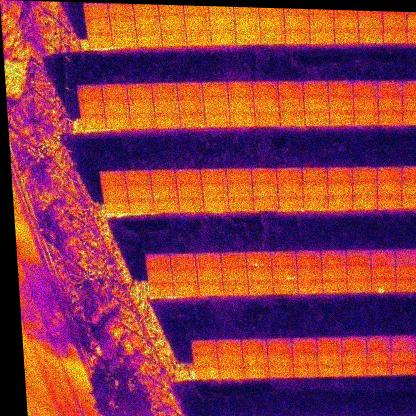Diode: (272, 266, 298, 281)
Hotspot: (180, 112, 206, 129), (304, 96, 330, 112), (229, 97, 255, 113), (279, 112, 305, 128), (298, 279, 324, 295), (252, 183, 279, 198), (129, 198, 156, 213), (84, 2, 109, 18), (152, 185, 178, 200), (246, 252, 272, 267), (359, 28, 384, 43), (371, 278, 396, 293), (279, 197, 305, 211), (243, 353, 268, 366)
Normal: (333, 10, 359, 29), (277, 81, 304, 99), (304, 110, 330, 128), (334, 27, 360, 45), (202, 81, 229, 98), (203, 97, 230, 114), (103, 99, 130, 116), (378, 109, 405, 126), (229, 111, 256, 128), (326, 194, 353, 211), (315, 336, 342, 353), (381, 11, 408, 28), (370, 249, 395, 267), (126, 84, 154, 100), (252, 81, 278, 98), (177, 82, 203, 99), (329, 110, 355, 127), (259, 13, 285, 30), (210, 14, 236, 31), (383, 27, 409, 44), (345, 249, 371, 266), (295, 250, 321, 267), (235, 29, 261, 46), (186, 29, 212, 46), (161, 30, 187, 47), (390, 334, 416, 351), (365, 335, 391, 352), (136, 30, 162, 47), (227, 82, 254, 98), (128, 99, 155, 115), (308, 13, 335, 29), (200, 168, 227, 184), (109, 17, 136, 33), (78, 85, 103, 102), (285, 28, 310, 45), (358, 11, 384, 27), (254, 97, 280, 113), (154, 98, 180, 114), (353, 111, 379, 127), (205, 112, 231, 128), (155, 113, 181, 129), (235, 15, 261, 31), (376, 167, 402, 183), (226, 169, 252, 185), (175, 169, 201, 185), (160, 15, 186, 31), (202, 183, 228, 199), (176, 183, 202, 199), (303, 195, 329, 211), (254, 196, 280, 212), (271, 251, 297, 267), (322, 265, 348, 281), (247, 267, 273, 283), (222, 267, 248, 283), (197, 266, 223, 282), (172, 267, 198, 283), (272, 280, 298, 296), (198, 281, 224, 297), (341, 336, 367, 352), (266, 337, 292, 353), (377, 81, 403, 97), (353, 81, 379, 97), (328, 81, 354, 97), (303, 80, 329, 96), (101, 85, 128, 100), (352, 96, 379, 111), (129, 114, 156, 129), (149, 171, 176, 186), (227, 183, 254, 198), (126, 185, 153, 200), (153, 83, 178, 99), (80, 100, 105, 116), (284, 12, 309, 28), (82, 115, 107, 131), (328, 96, 354, 111), (279, 98, 305, 113), (254, 112, 280, 127), (105, 115, 131, 130), (351, 167, 377, 182), (326, 167, 352, 182), (277, 169, 303, 184), (125, 171, 151, 186), (100, 171, 126, 186), (376, 180, 402, 195), (352, 181, 378, 196), (327, 181, 353, 196), (302, 182, 328, 197), (278, 182, 304, 197), (376, 194, 402, 209), (135, 17, 161, 32), (229, 197, 255, 212), (154, 198, 180, 213), (219, 252, 245, 267), (194, 253, 220, 268), (297, 266, 323, 281), (148, 268, 174, 283), (322, 279, 348, 294), (248, 281, 274, 296), (222, 281, 248, 296), (211, 31, 237, 46), (241, 338, 267, 353), (216, 339, 242, 354), (192, 340, 218, 355), (390, 361, 416, 376), (243, 365, 269, 380), (111, 33, 137, 48), (218, 365, 244, 380), (108, 3, 134, 18), (292, 338, 316, 354), (251, 169, 278, 183), (309, 29, 336, 43), (179, 197, 204, 212), (146, 254, 171, 269), (174, 282, 199, 297), (318, 364, 343, 379), (178, 98, 204, 112), (185, 16, 211, 30), (302, 169, 328, 183), (102, 185, 128, 199), (352, 195, 378, 209), (203, 199, 229, 213), (321, 251, 347, 265), (170, 253, 196, 267), (347, 278, 373, 292), (260, 30, 286, 44), (342, 350, 368, 364), (217, 352, 243, 366), (342, 363, 368, 377), (150, 282, 174, 297), (88, 33, 112, 48), (394, 249, 416, 265), (105, 198, 130, 212), (86, 19, 111, 33), (346, 265, 371, 279), (371, 266, 396, 280), (293, 364, 318, 378), (317, 352, 343, 365), (292, 352, 318, 365), (268, 365, 294, 378), (378, 97, 403, 110), (193, 355, 218, 368), (366, 351, 392, 363), (267, 353, 293, 365), (367, 363, 391, 376), (195, 367, 219, 380), (394, 265, 416, 279), (392, 349, 415, 362), (395, 278, 416, 292), (401, 166, 416, 182), (400, 194, 416, 209), (402, 96, 416, 111), (403, 110, 416, 126), (402, 83, 416, 97), (401, 182, 416, 195), (414, 334, 416, 351), (414, 349, 416, 362), (415, 361, 416, 374)
